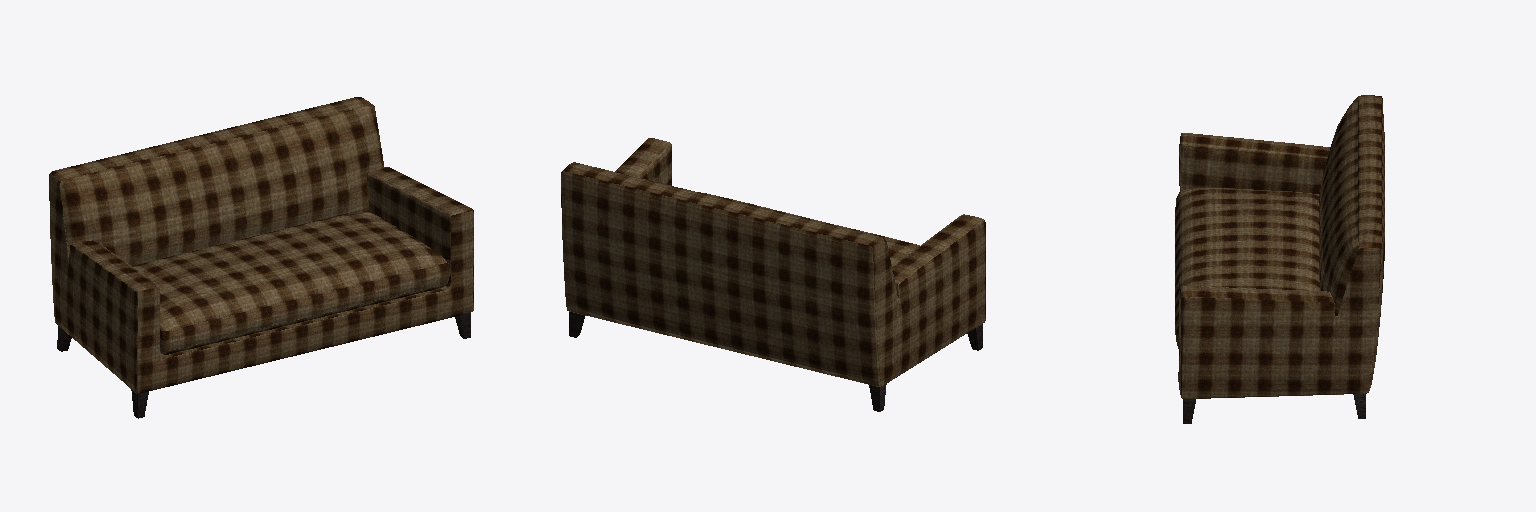
3 renders of one model, left to right at view 1: azimuth 30°, elevation 25°; view 2: azimuth 150°, elevation 25°; view 3: azimuth 270°, elevation 25°, orthographic.
Parts seen in each view (by area): view 1: mpm_vol_07_p24:_Ligne_Roset_Citta_sofa polySurface5; view 2: mpm_vol_07_p24:_Ligne_Roset_Citta_sofa polySurface5; view 3: mpm_vol_07_p24:_Ligne_Roset_Citta_sofa polySurface5.
Boxes of the visible parts, box(x1,y1,x2,y2) form: mpm_vol_07_p24:_Ligne_Roset_Citta_sofa polySurface5: box(49, 97, 473, 393); mpm_vol_07_p24:_Ligne_Roset_Citta_sofa polySurface5: box(561, 138, 985, 386); mpm_vol_07_p24:_Ligne_Roset_Citta_sofa polySurface5: box(1175, 95, 1384, 398).
Size of the model in its own units: 8.29 by 4.05 by 4.45.
5 materials, 2 textured.